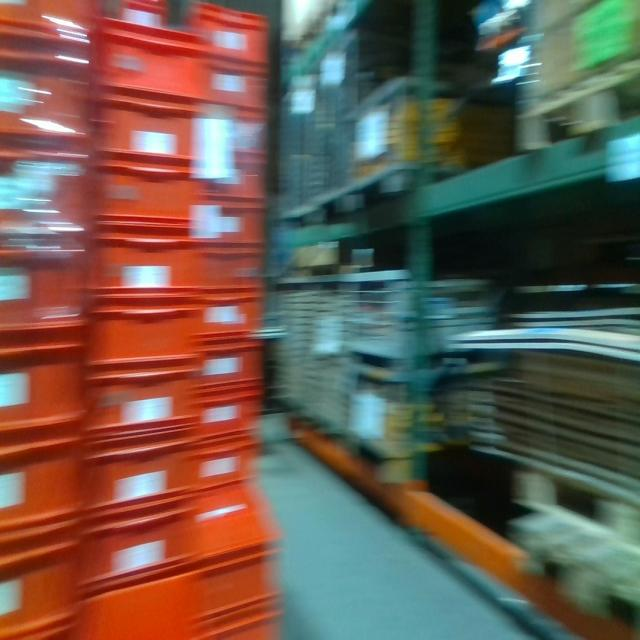pallet: (503, 505, 640, 622), (509, 59, 639, 157), (505, 451, 639, 541)
small_load_carrier: (77, 488, 206, 595), (92, 12, 214, 108), (191, 485, 277, 621), (82, 368, 204, 452), (2, 43, 91, 155), (0, 448, 83, 567), (0, 239, 87, 352), (79, 565, 201, 639), (1, 342, 84, 448), (86, 298, 204, 370), (89, 434, 206, 506), (2, 146, 92, 239), (85, 226, 196, 298), (93, 164, 200, 226), (95, 99, 198, 162), (186, 1, 274, 69), (1, 548, 78, 623), (175, 385, 266, 445), (178, 437, 259, 501), (1, 1, 96, 55), (190, 61, 269, 113), (187, 344, 266, 396), (194, 242, 265, 298), (193, 157, 270, 206), (189, 298, 265, 344), (192, 113, 269, 157), (203, 598, 287, 637), (194, 206, 270, 242), (2, 616, 81, 637)
stillage: (343, 82, 517, 201), (314, 27, 425, 213), (342, 361, 442, 495), (341, 268, 473, 366), (305, 269, 360, 444), (279, 67, 320, 233), (272, 269, 308, 419)
